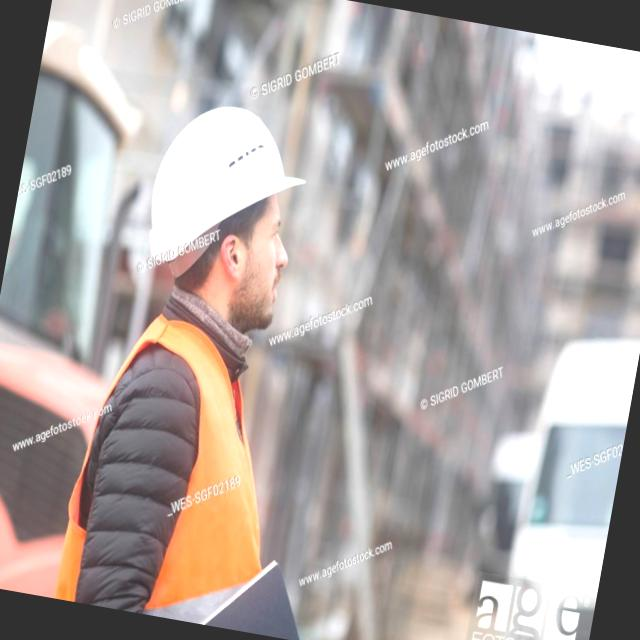helmet: (136, 92, 317, 285)
no-goggles: (222, 207, 294, 275)
vest: (56, 298, 316, 635)
